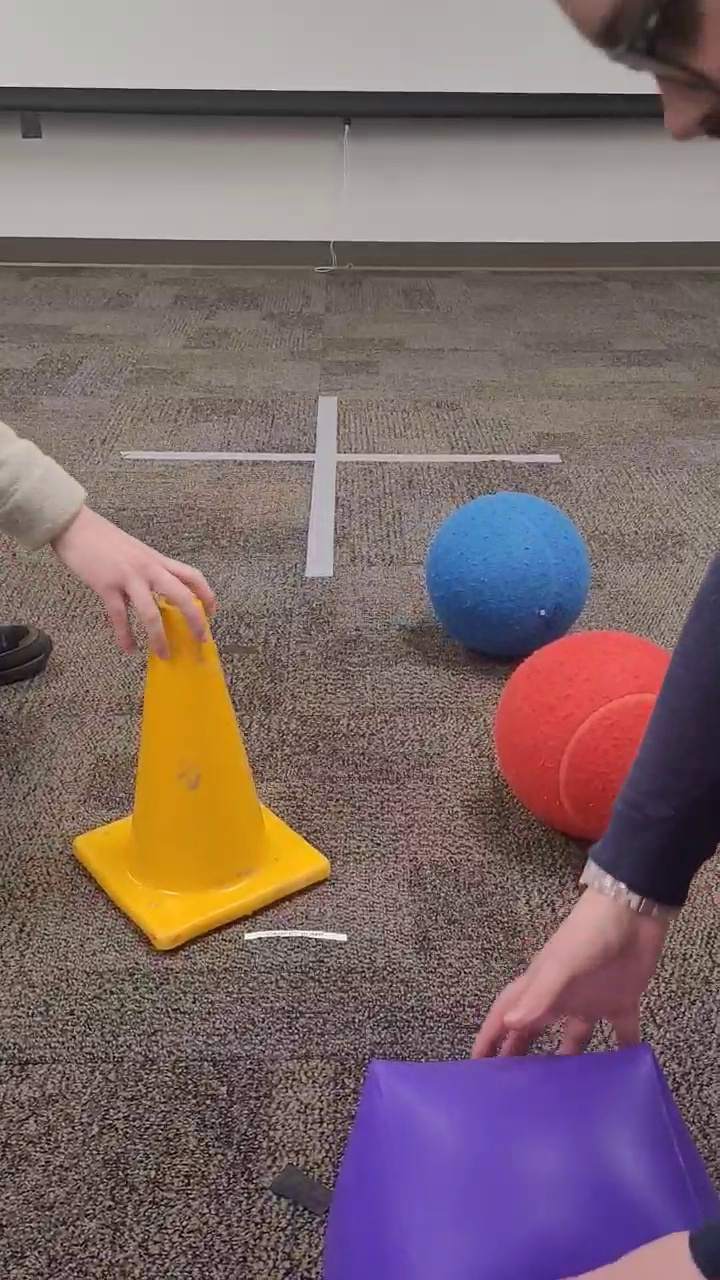ball: (492, 624, 718, 848), (423, 490, 592, 655)
cone: (64, 592, 334, 956)
cube: (322, 1041, 715, 1278)
face: (545, 1, 719, 167)
hand: (463, 537, 720, 1057), (1, 404, 220, 657), (568, 1224, 718, 1280)
